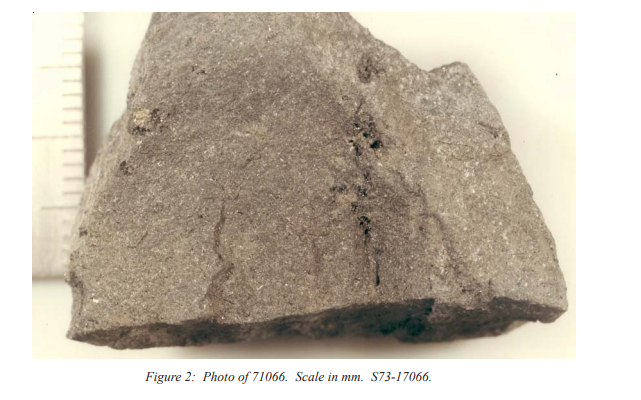Basalt: (116, 55, 562, 338), (200, 136, 493, 303)
